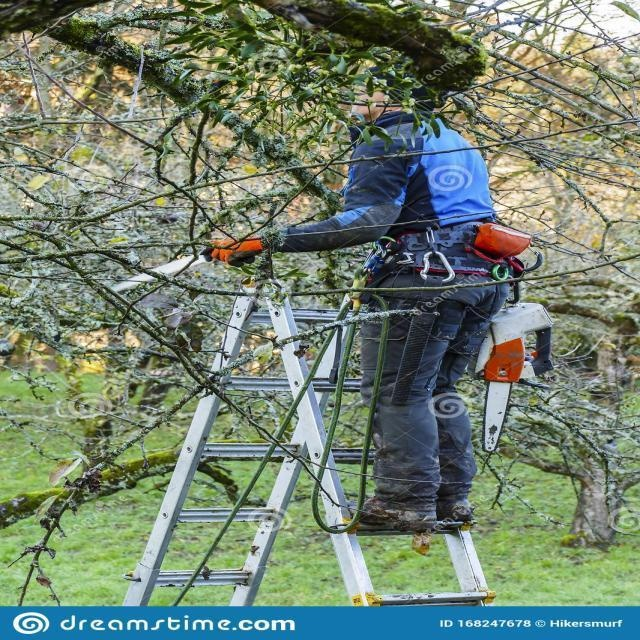Arnes_seguridad: (373, 222, 508, 277)
